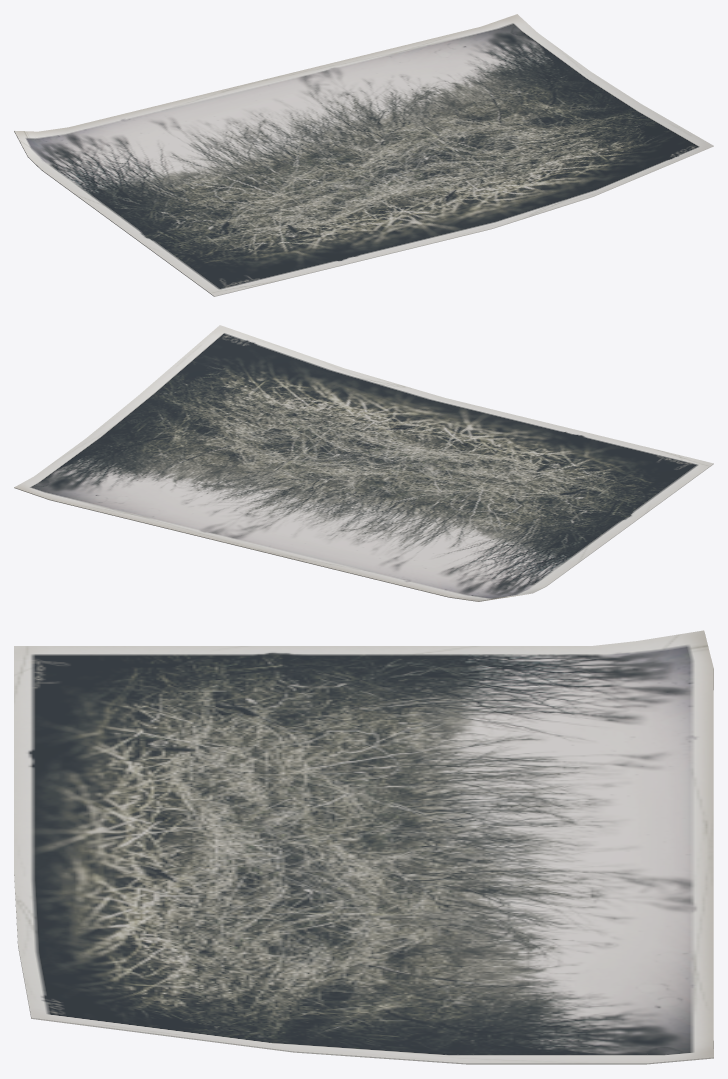
Rendered from Picture_8_Large.FBX.
3 views of the same model, one above another, from view 1: azimuth 30°, elevation 25°; view 2: azimuth 150°, elevation 25°; view 3: azimuth 270°, elevation 25° (orthographic). The views are drawn at different scales.
Visible parts, largest first — view 1: Picture_8_Large; view 2: Picture_8_Large; view 3: Picture_8_Large.
Boxes of the visible parts, left/top/right/bottom form: Picture_8_Large: left=14, top=14, right=713, bottom=296; Picture_8_Large: left=14, top=325, right=713, bottom=601; Picture_8_Large: left=14, top=630, right=713, bottom=1064.
Bounding box in the file's own units: 42.47 × 1.92 × 30.09.
